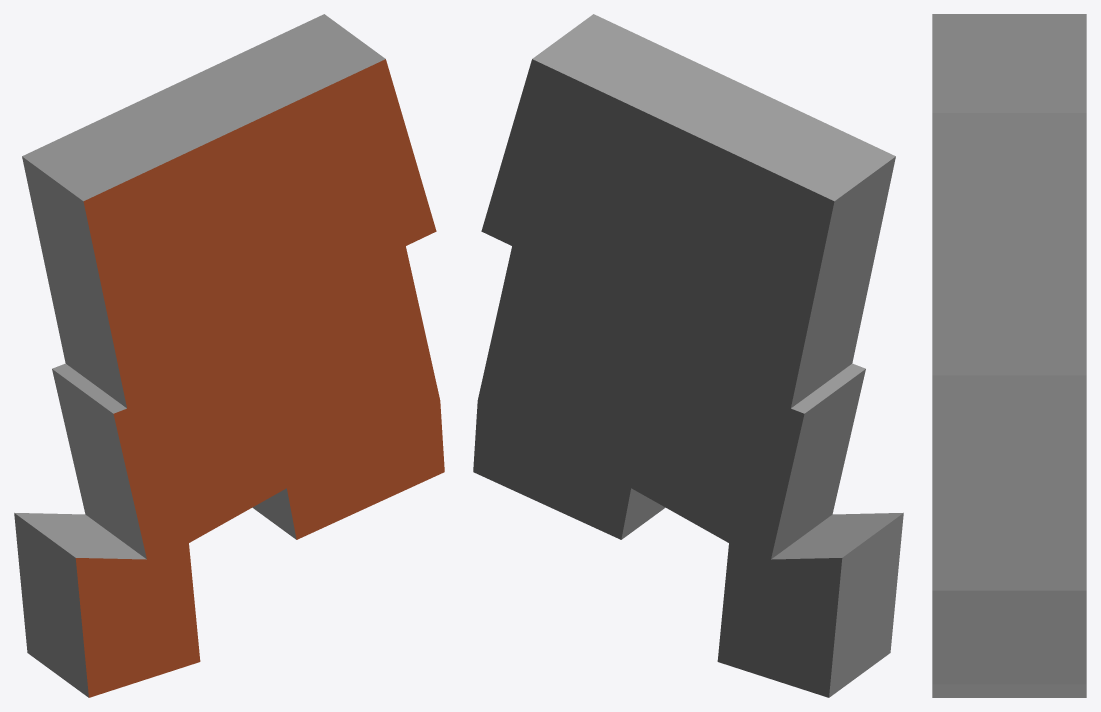
The model's file is construction_5457_assumed_A_Casa_h6m.obj.
The picture shows the model from 3 angles, left to right: view 1: azimuth 30°, elevation 25°; view 2: azimuth 150°, elevation 25°; view 3: azimuth 270°, elevation 25°; orthographic projection. The views are drawn at different scales.
Parts seen in each view (by area): view 1: construction_5457_assumed_A_Casa; view 2: construction_5457_assumed_A_Casa; view 3: construction_5457_assumed_A_Casa.
Part boxes in pixels (left/top/right/bottom): construction_5457_assumed_A_Casa: left=14, top=14, right=444, bottom=697; construction_5457_assumed_A_Casa: left=473, top=14, right=903, bottom=697; construction_5457_assumed_A_Casa: left=932, top=14, right=1086, bottom=697.
Size of the model in its own units: 20.78 by 30.48 by 6.
